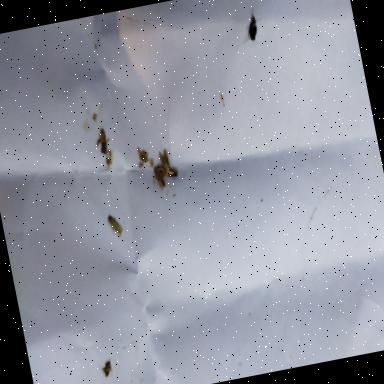pbw: (150, 165, 168, 192), (157, 148, 173, 178), (107, 212, 124, 240), (94, 128, 110, 156), (166, 168, 179, 179)
